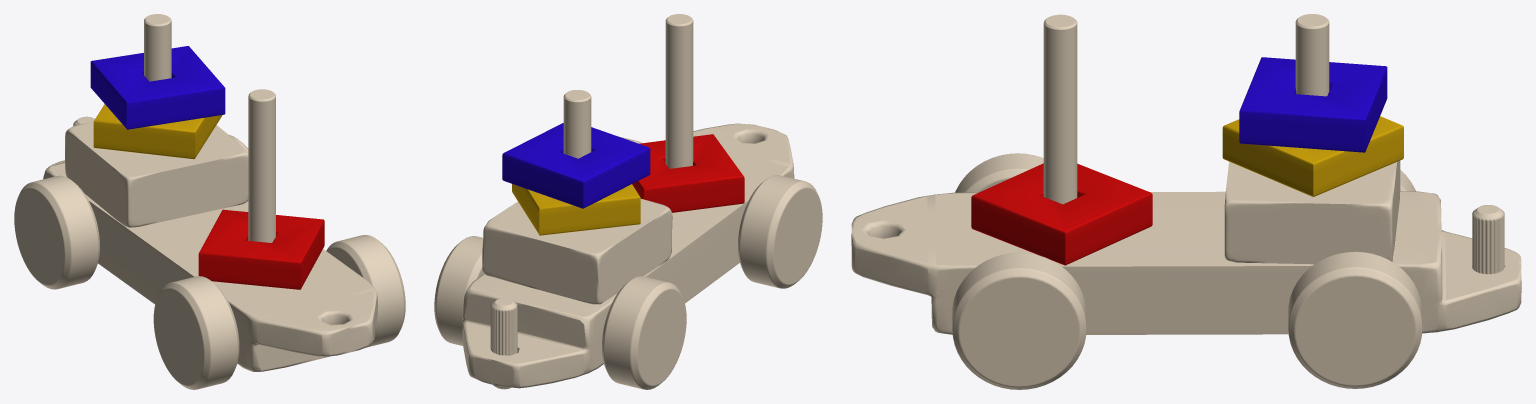
The model's file is WTrainBody.fbx.
The picture shows the model from 3 angles, left to right: view 1: azimuth 30°, elevation 25°; view 2: azimuth 150°, elevation 25°; view 3: azimuth 270°, elevation 25°; orthographic projection. The views are drawn at different scales.
Parts seen in each view (by area): view 1: Wagon, Tube_1, Tube_2, Tube; view 2: Wagon, Tube_1, Tube_2, Tube; view 3: Wagon, Tube_2, Tube_1, Tube.
Boxes of the visible parts, <box> form: Wagon: <box>14,14,405,389</box>; Tube_1: <box>90,46,225,129</box>; Tube_2: <box>198,209,324,289</box>; Tube: <box>93,104,222,159</box>; Wagon: <box>434,14,822,389</box>; Tube_1: <box>502,123,650,208</box>; Tube_2: <box>632,134,744,212</box>; Tube: <box>512,184,640,235</box>; Wagon: <box>851,14,1521,389</box>; Tube_2: <box>971,163,1152,265</box>; Tube_1: <box>1239,57,1387,152</box>; Tube: <box>1222,116,1403,196</box>.
Size of the model in its own units: 6.88 by 8.18 by 15.96.
